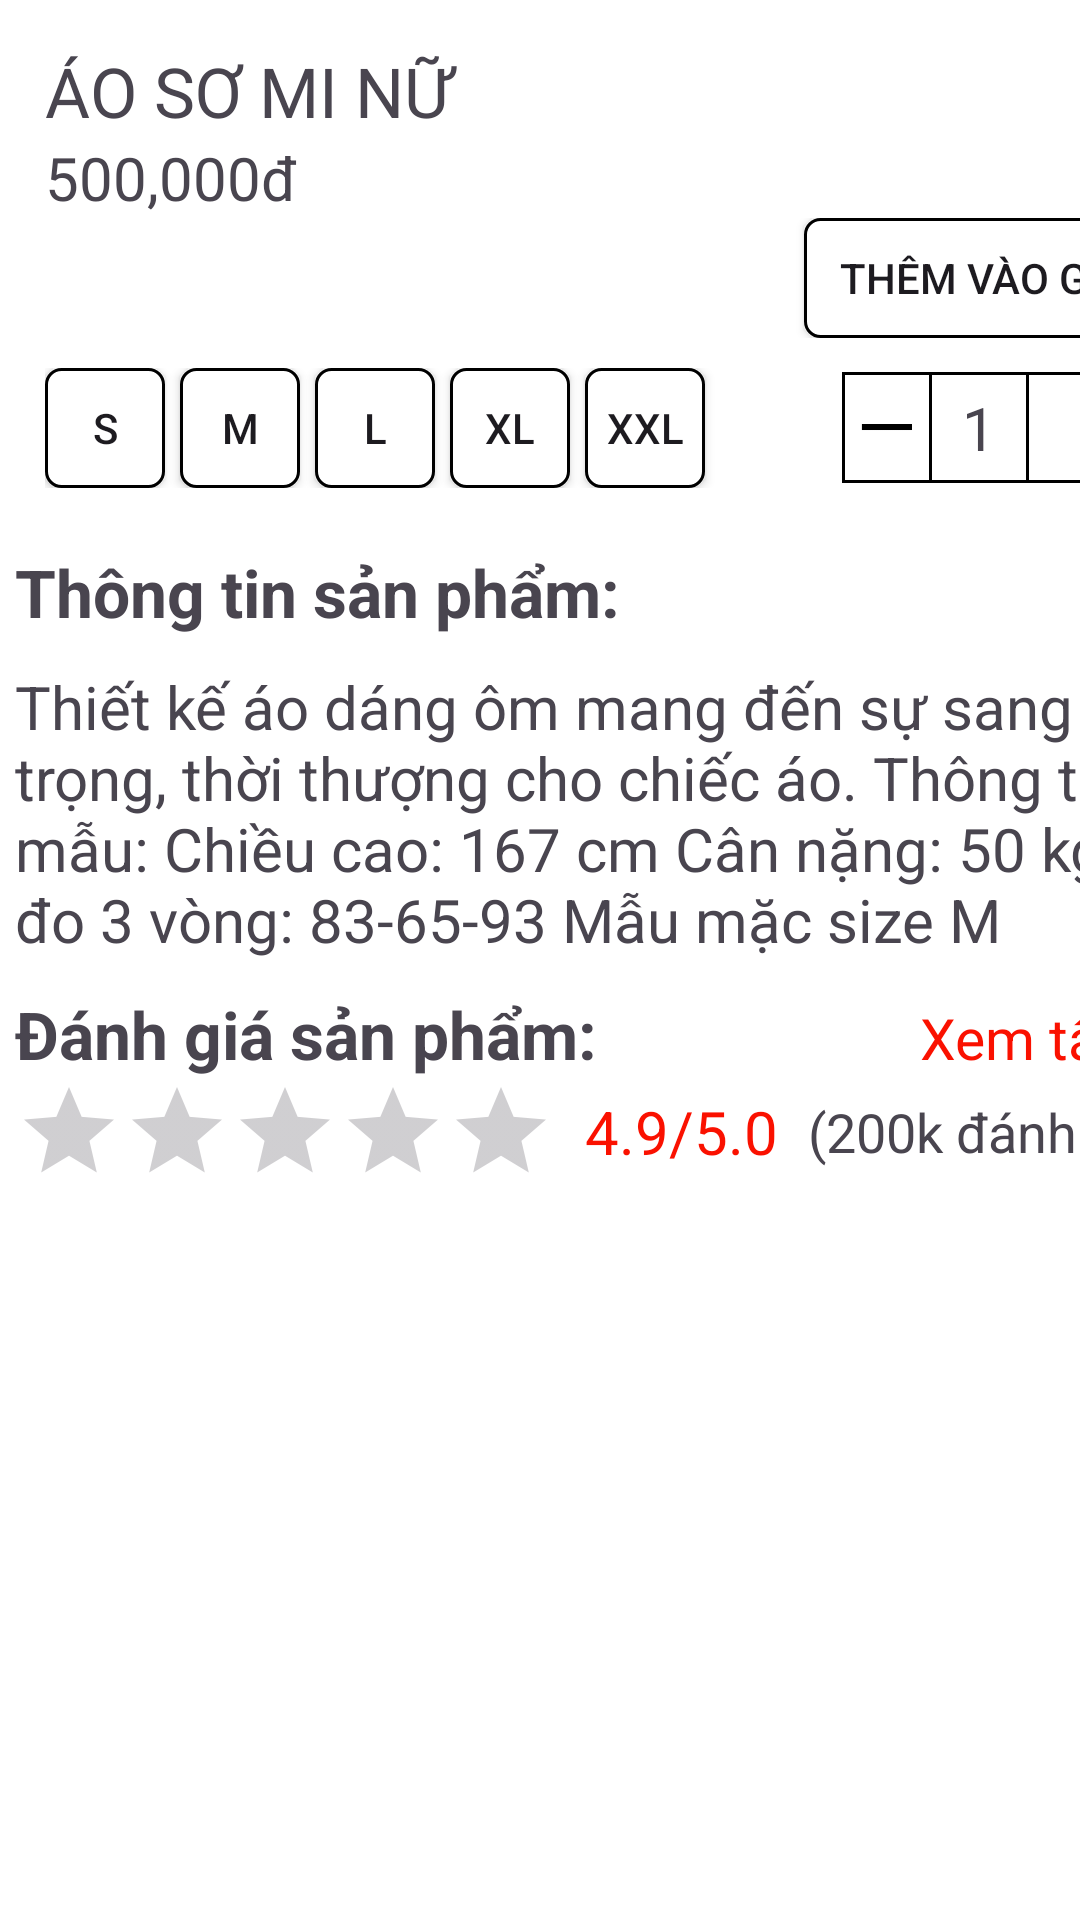

Where to tap for icons on this 1080px x 1920px app screen, as (x,y):
subtract: (887,427)
